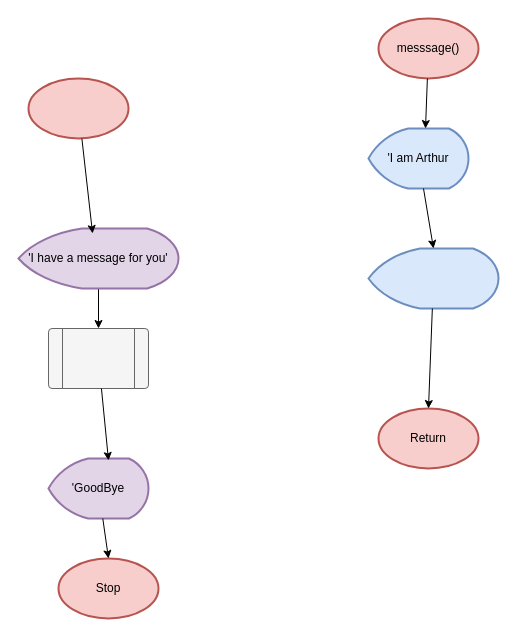
The diagram is 516 pixels wide and 636 high, and some of its shapes have lost their labels. Each missing label, with the centre of its shape:
"'King of the Britons" goes at (433,278).
"message()" goes at (98,358).
"start" goes at (78,108).
